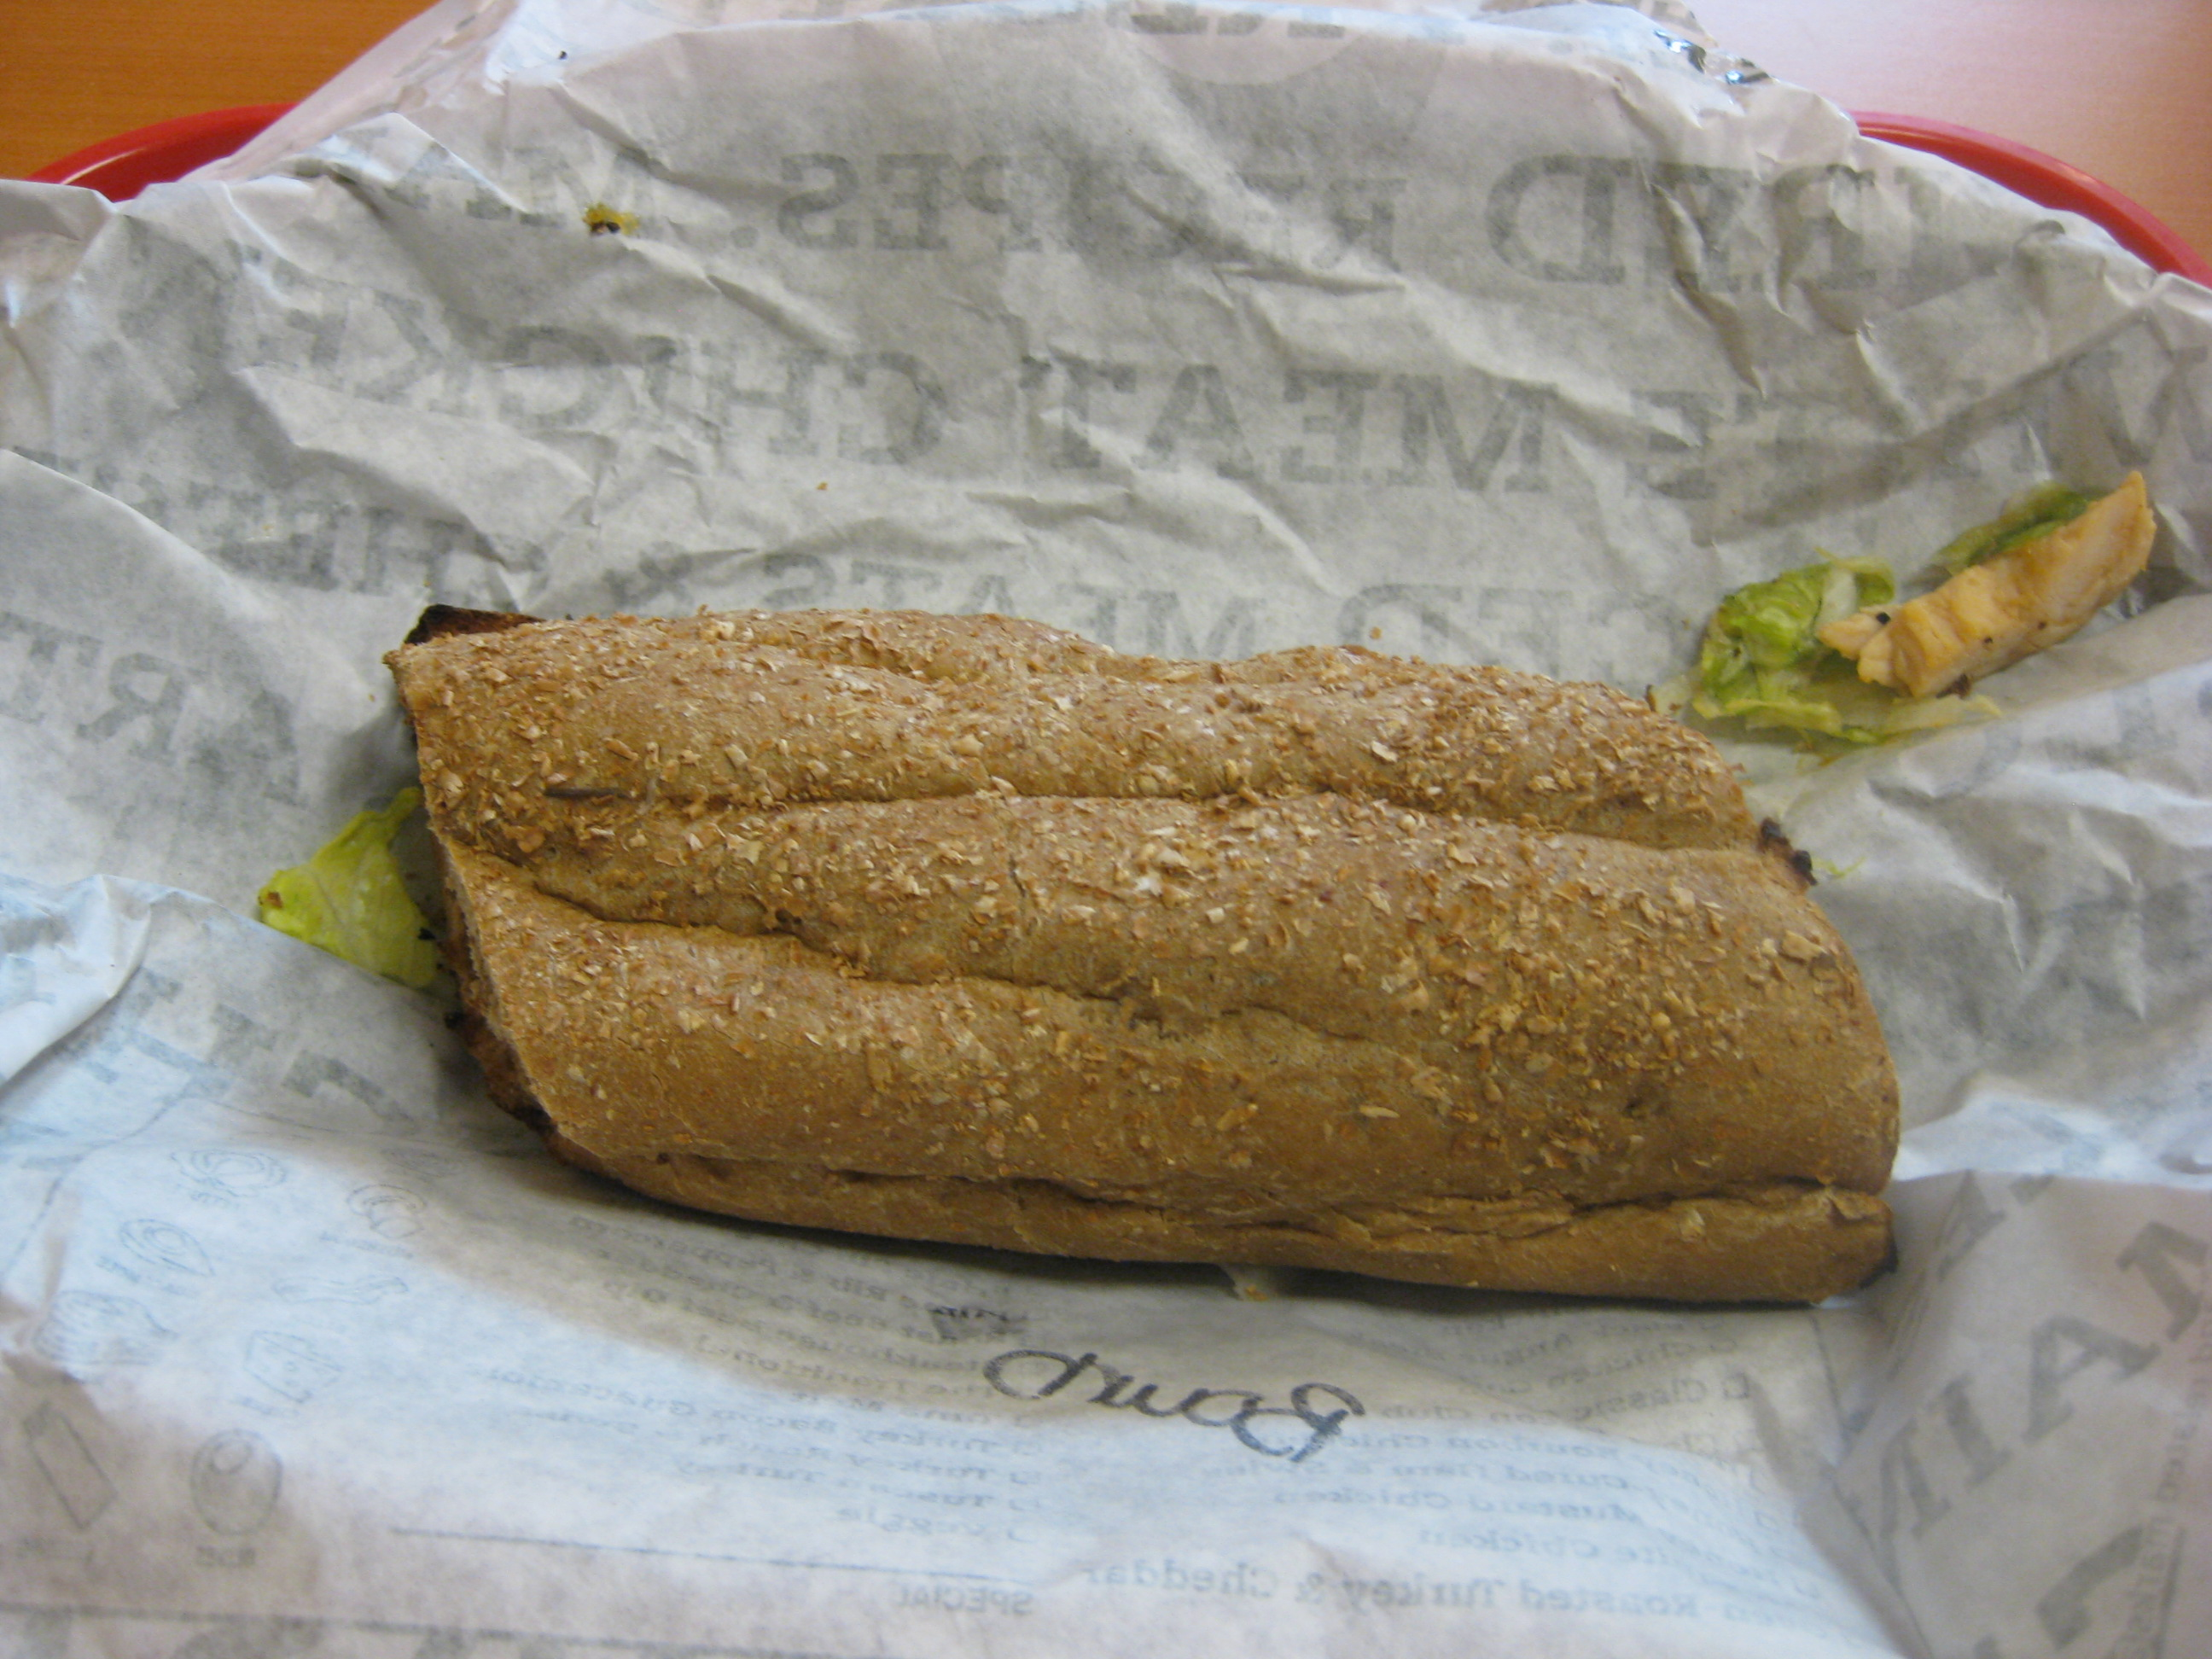sub: (347, 522, 1939, 1352)
